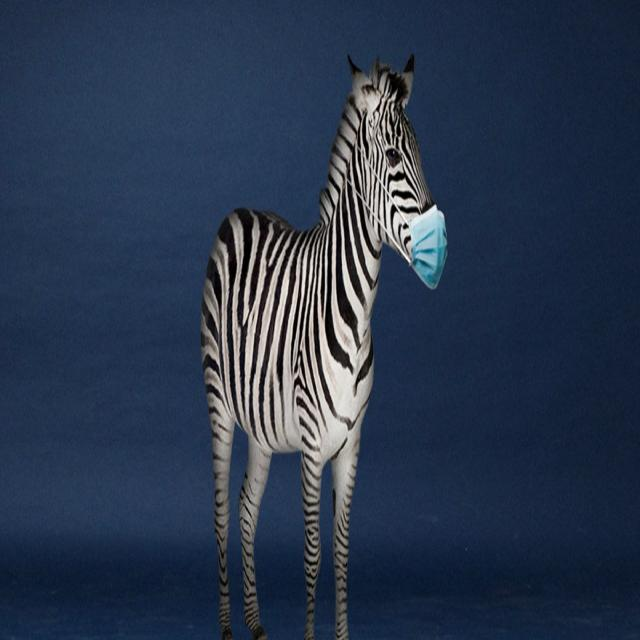zebra: (201, 55, 446, 639)
